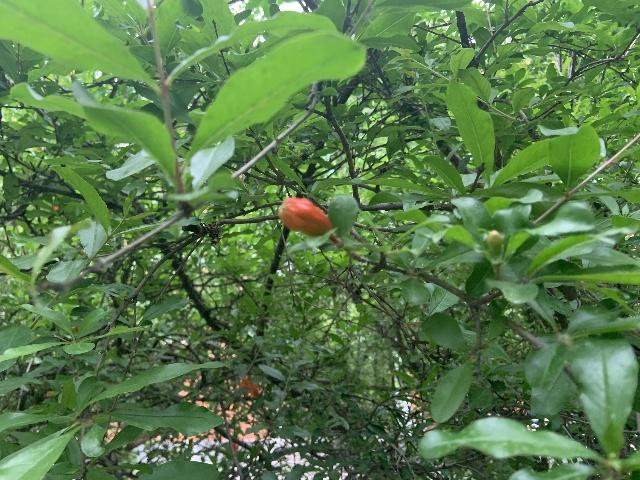bud: (277, 196, 332, 237)
flower: (240, 376, 260, 396)
